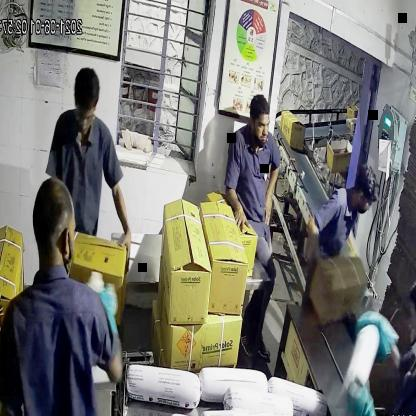no_goggles: (248, 112, 274, 133)
